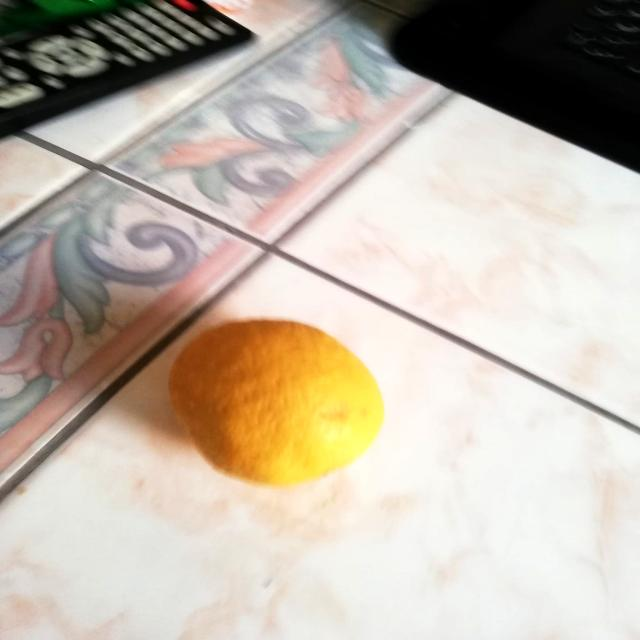lemon: (161, 309, 396, 498)
